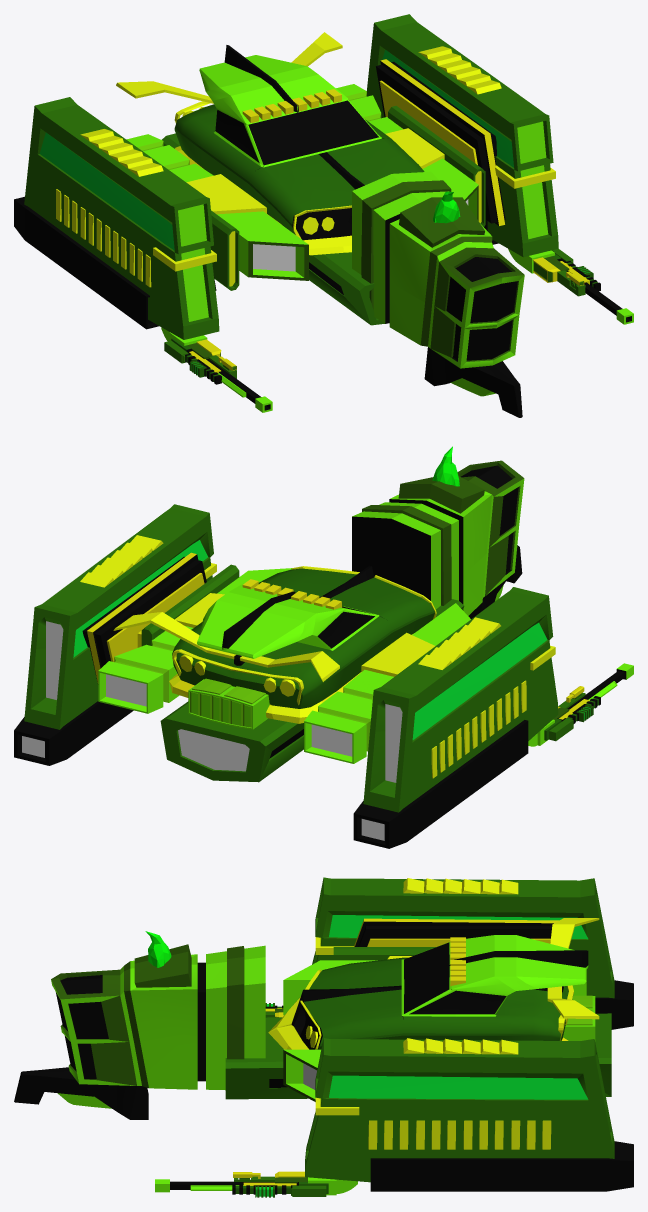
The model's file is Ayahuasca.fbx.
3 renders of one model, top to bottom at view 1: azimuth 30°, elevation 25°; view 2: azimuth 150°, elevation 25°; view 3: azimuth 270°, elevation 25°, orthographic. The views are drawn at different scales.
Visible parts, largest first — view 1: pasted__polySurface89; view 2: pasted__polySurface89; view 3: pasted__polySurface89.
Part boxes in pixels (left/top/right/bottom): pasted__polySurface89: left=14, top=14, right=633, bottom=417; pasted__polySurface89: left=14, top=446, right=633, bottom=848; pasted__polySurface89: left=14, top=877, right=633, bottom=1197.
Bounding box in the file's own units: 76.57 × 33.93 × 108.
